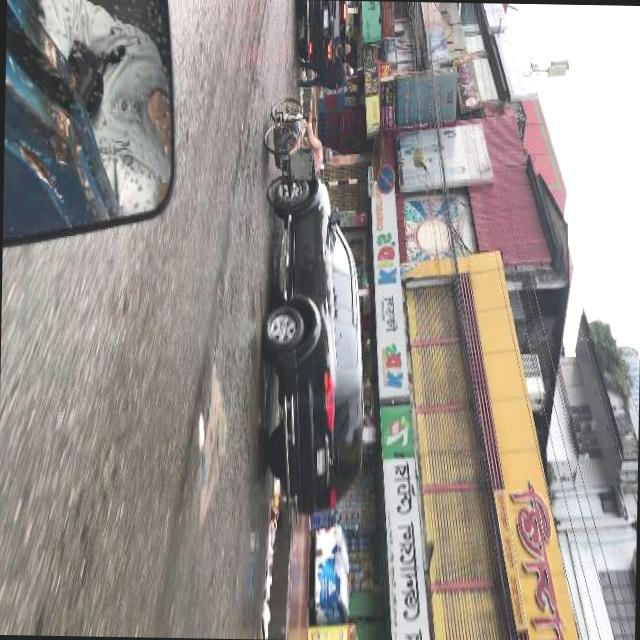car: (258, 193, 368, 527), (296, 1, 348, 61)
